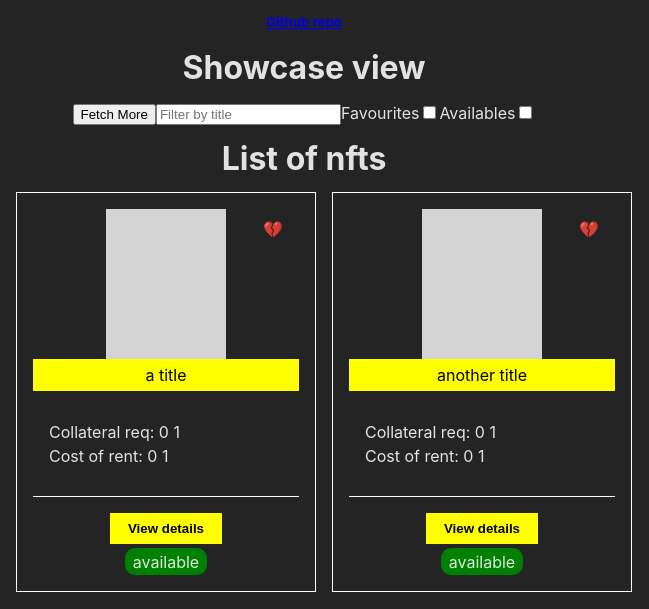
Test case: ShowcaseView › filters by title
This screenshot has width=649, height=609.
Step 1. Type "a ti" into the search field → coordinates (248, 115), box x1=156 y1=104 x2=341 y2=126
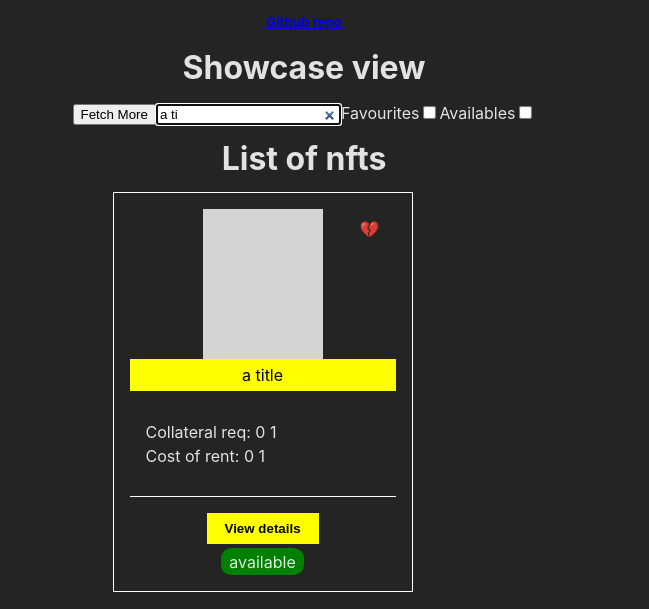
expect the text "a title" is shown: met, box x1=130 y1=359 x2=396 y2=391
expect the text "another title" is gone: met
